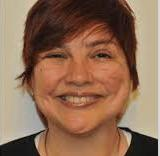strokeEyeMid: (40, 39, 119, 67)
